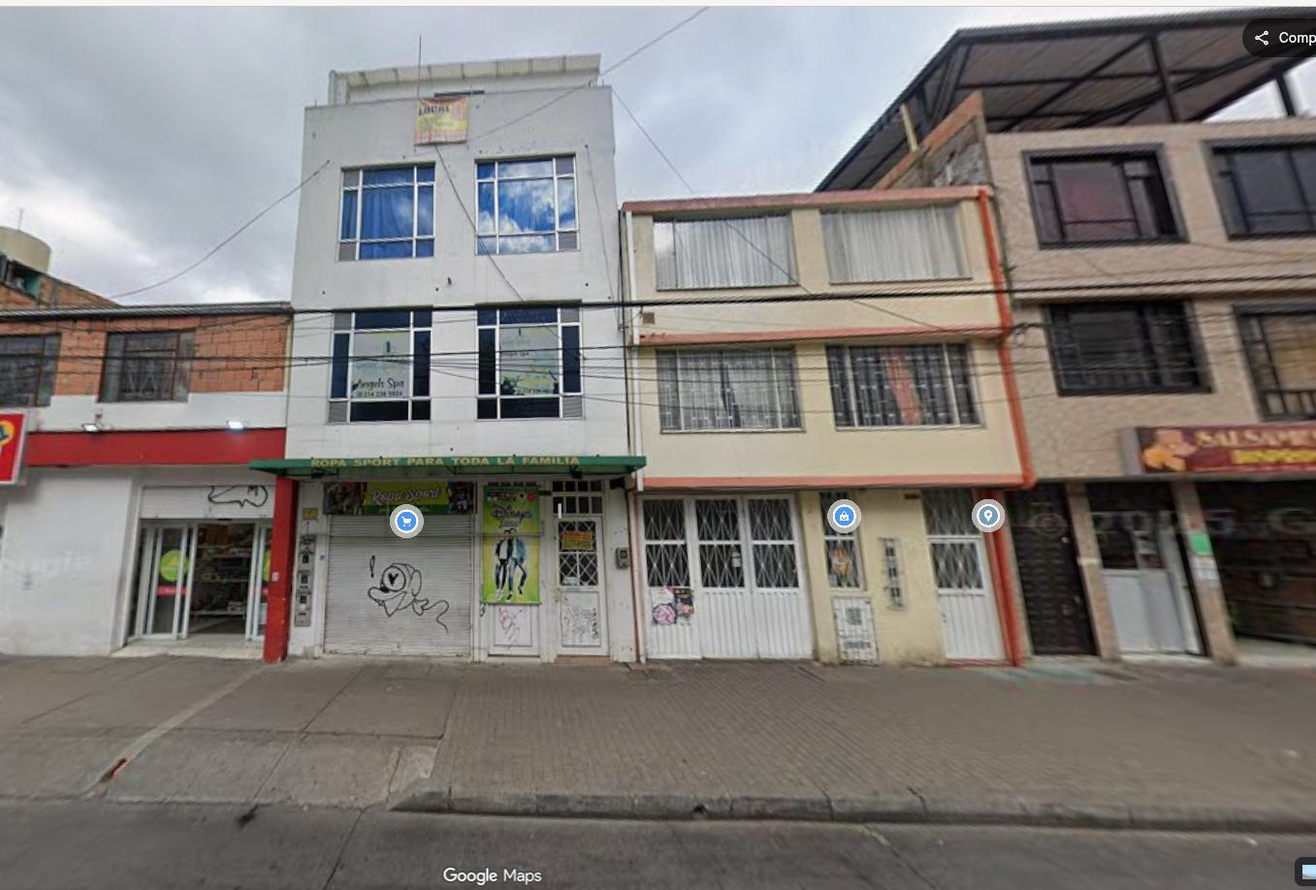casa: (818, 13, 1315, 658), (252, 56, 645, 664), (586, 184, 1030, 660), (0, 304, 289, 658)
